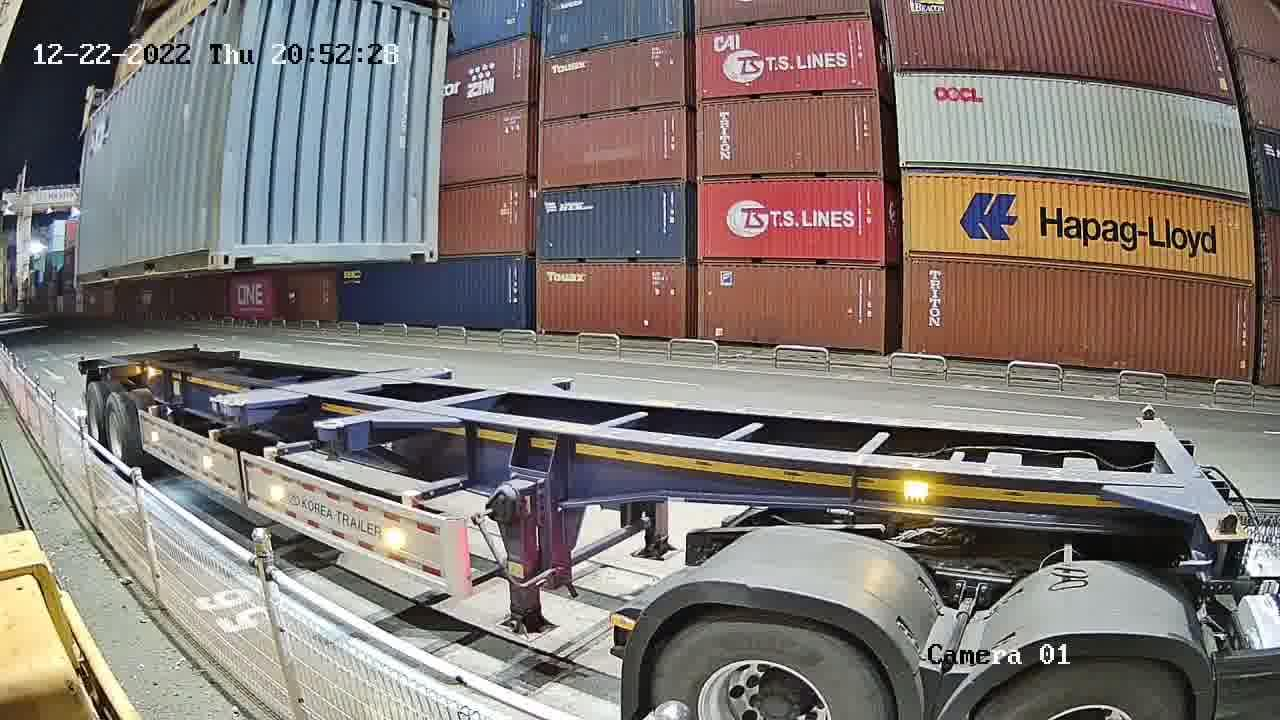Chassis: (227, 368, 453, 410), (213, 365, 422, 399)
Cone: (225, 398, 244, 425), (208, 397, 222, 417)
Hole_L: (221, 231, 259, 269)
Hole_R: (410, 225, 440, 262), (196, 235, 221, 269)
Tire: (107, 395, 131, 467), (83, 386, 105, 451)
